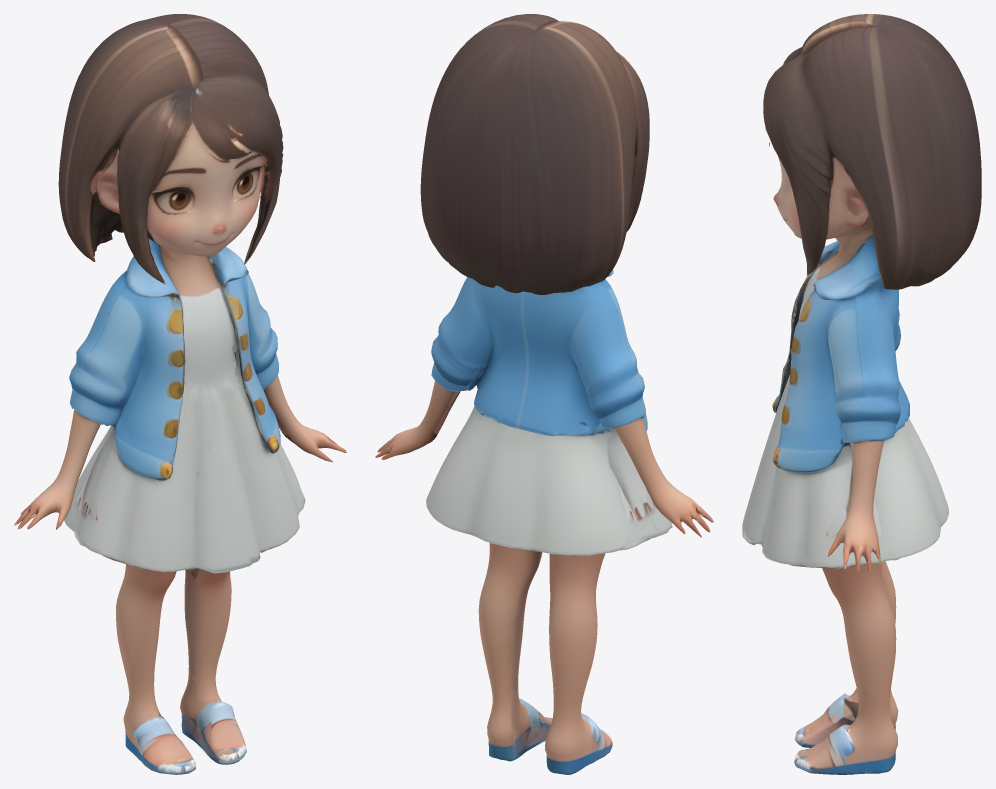
The model's file is rachel_mini_hyper3d_shaded.glb.
The picture shows the model from 3 angles, left to right: view 1: azimuth 30°, elevation 25°; view 2: azimuth 150°, elevation 25°; view 3: azimuth 270°, elevation 25°; orthographic projection. The views are drawn at different scales.
Visible parts, largest first — view 1: model; view 2: model; view 3: model.
Part boxes in pixels (left/top/right/bottom): model: left=14, top=14, right=346, bottom=774; model: left=375, top=14, right=713, bottom=774; model: left=742, top=14, right=981, bottom=774.
Size of the model in its own units: 0.9025 by 1.9 by 0.5684.
Materials: 1 (1 with a texture image).
